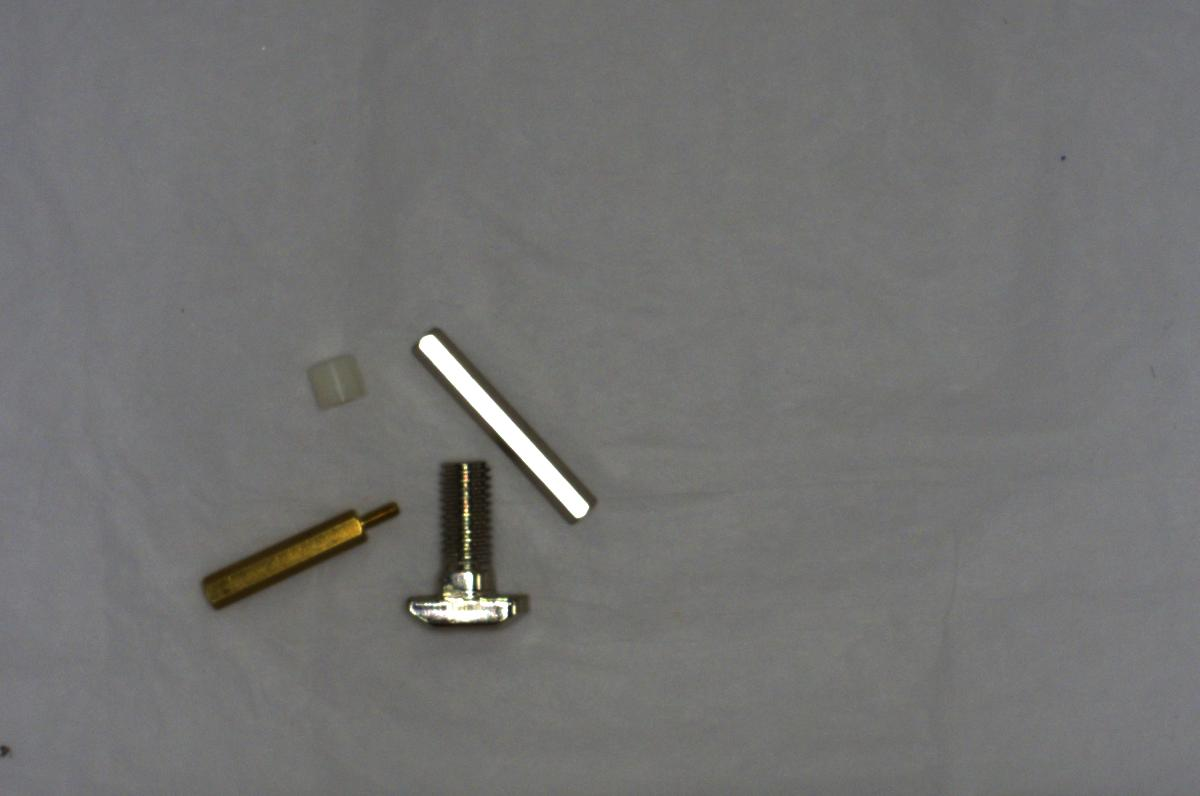Double hexagonal column: (404, 328, 602, 529)
Hexagon pillar: (195, 494, 404, 612)
Plastic cushion pillar: (295, 343, 373, 422)
T-shaped screw: (414, 453, 538, 636)
